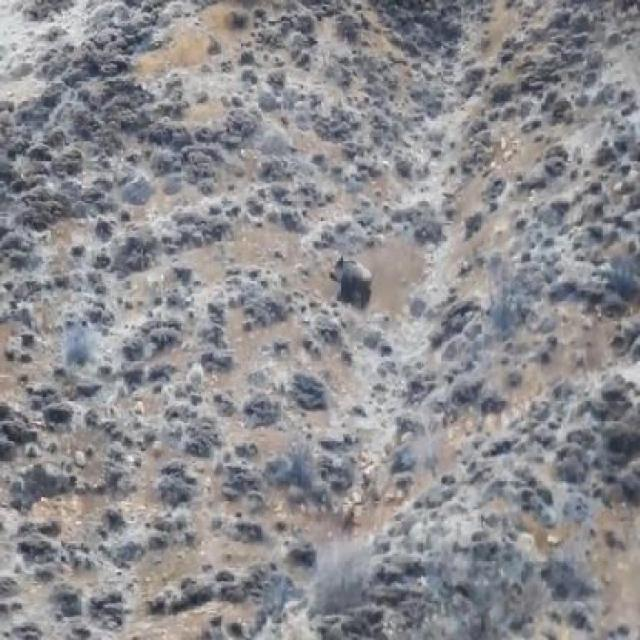pig: (329, 248, 379, 317)
